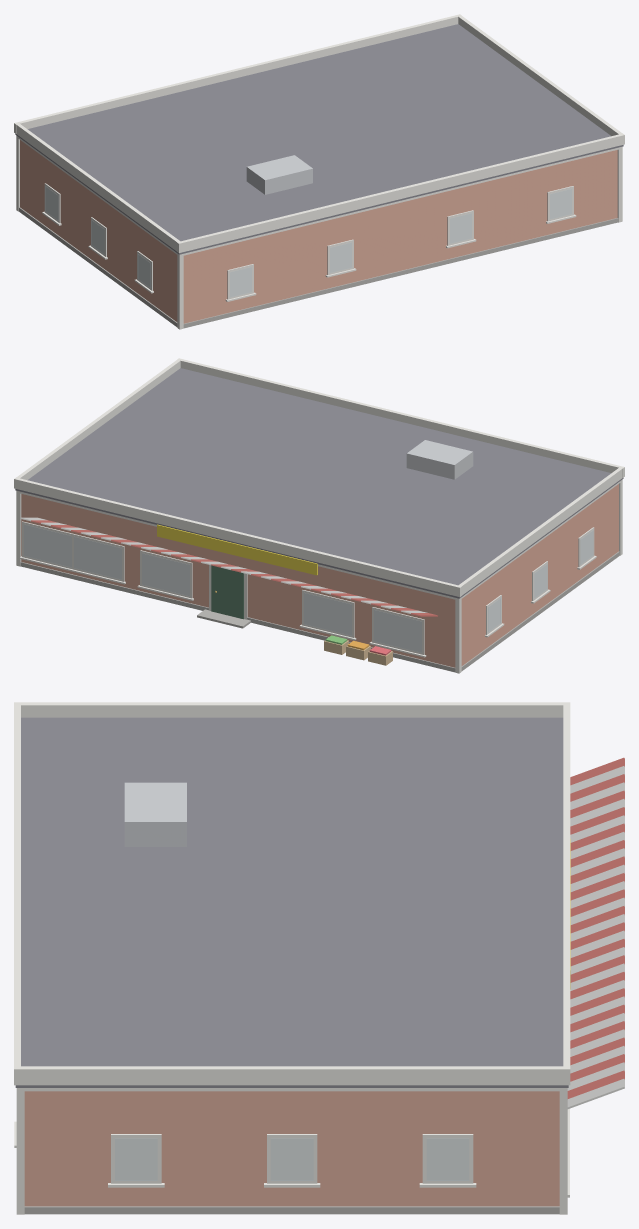
File: market_b.glb
3 renders of one model, top to bottom at view 1: azimuth 30°, elevation 25°; view 2: azimuth 150°, elevation 25°; view 3: azimuth 270°, elevation 25°, orthographic. The views are drawn at different scales.
Visible parts, largest first — view 1: roof, body; view 2: roof, body; view 3: roof, body.
Part boxes in pixels (left/top/right/bottom): roof: left=14, top=14, right=624, bottom=254; body: left=16, top=135, right=622, bottom=329; roof: left=14, top=358, right=624, bottom=598; body: left=16, top=479, right=622, bottom=673; roof: left=14, top=702, right=570, bottom=1087; body: left=14, top=757, right=624, bottom=1214.
Size of the model in its own units: 22.3 by 4.65 by 15.68.
